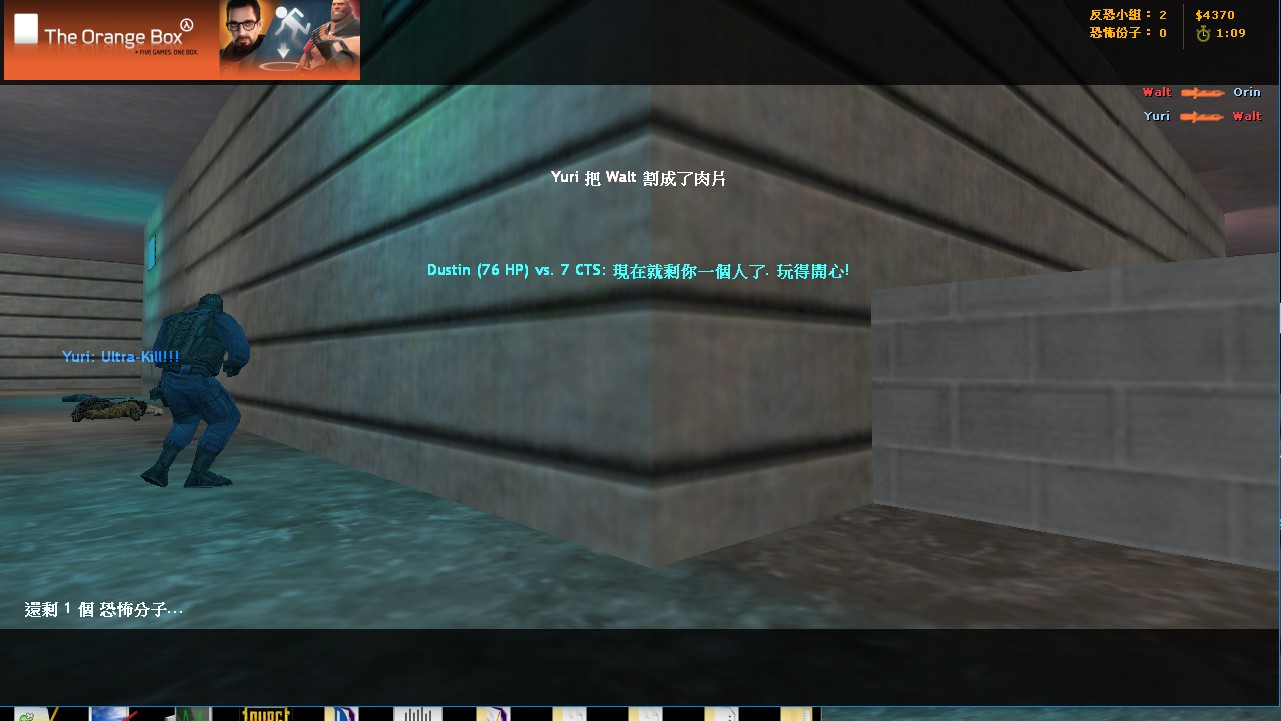person: (147, 288, 255, 495)
